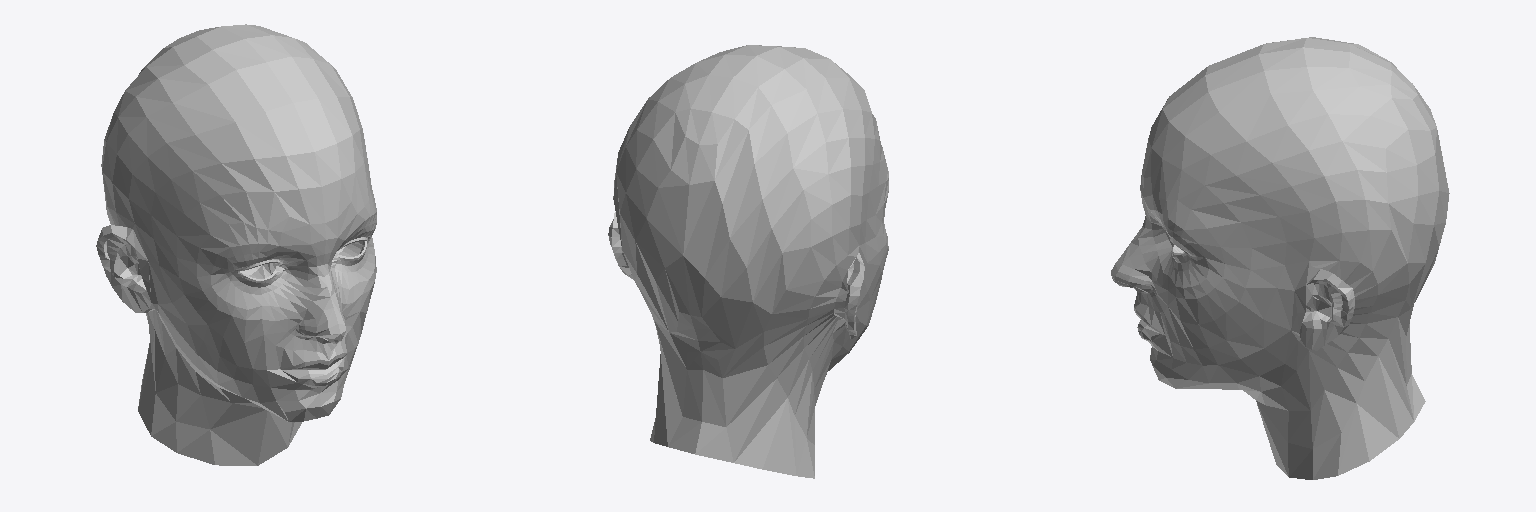
File: head_model.obj
3 views of the same model, side by side, from view 1: azimuth 30°, elevation 25°; view 2: azimuth 150°, elevation 25°; view 3: azimuth 270°, elevation 25° (orthographic).
Parts seen in each view (by area): view 1: polySurface4; view 2: polySurface4; view 3: polySurface4.
Boxes of the visible parts, <box> form: polySurface4: <box>96,24,376,465</box>; polySurface4: <box>608,45,888,478</box>; polySurface4: <box>1111,37,1449,479</box>.
Size of the model in its own units: 4.45 by 7.06 by 5.2.